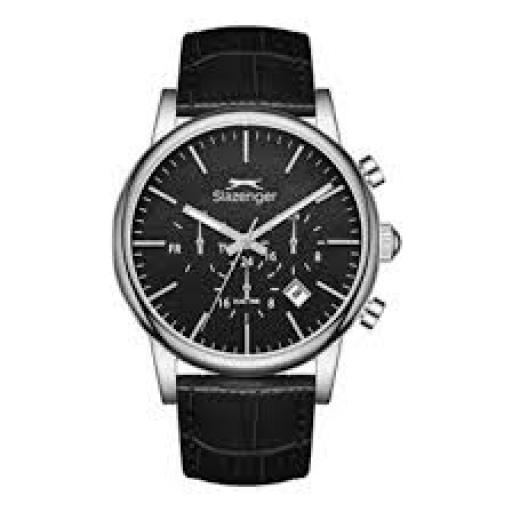KolSaati: (121, 14, 403, 496)
